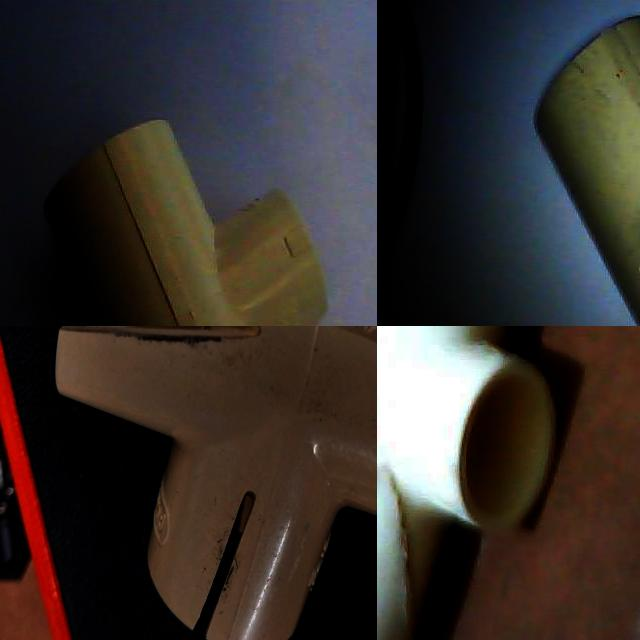Defective: (377, 439, 441, 640), (98, 465, 151, 640), (260, 470, 364, 554)
T Joint: (9, 326, 377, 640), (377, 326, 567, 640), (42, 120, 327, 326), (534, 16, 640, 326)
